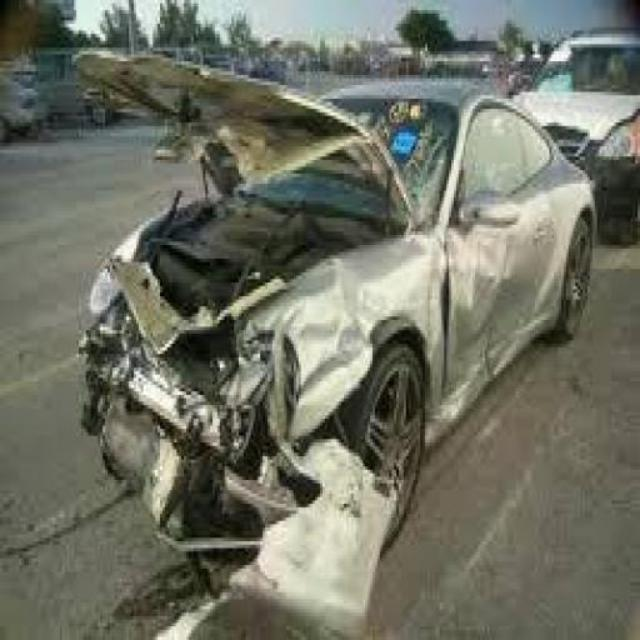crash: (70, 150, 566, 637)
